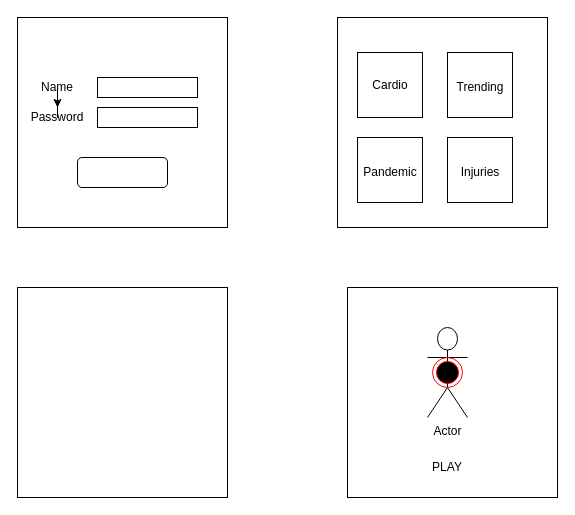
Some shapes in this 575 by 515 pixel diagram are drawn without their labels. The box of each missing label's shape, as (x1, y1, x2, y2) in pixels:
Cardio Learn common challenges and tips for handling cardiac arrest situations: (16, 286, 228, 498)
Login: (76, 156, 168, 188)
